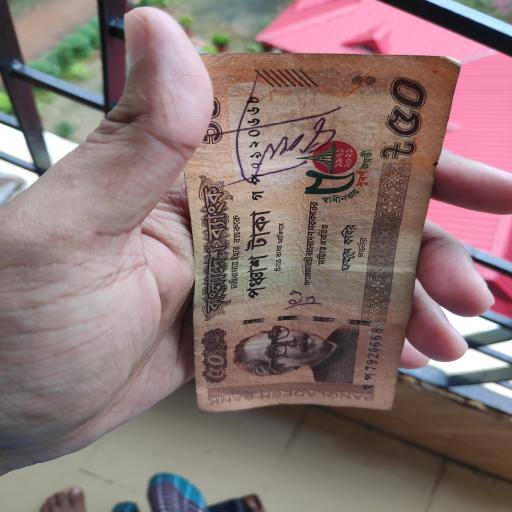50taka: (185, 61, 457, 408)
